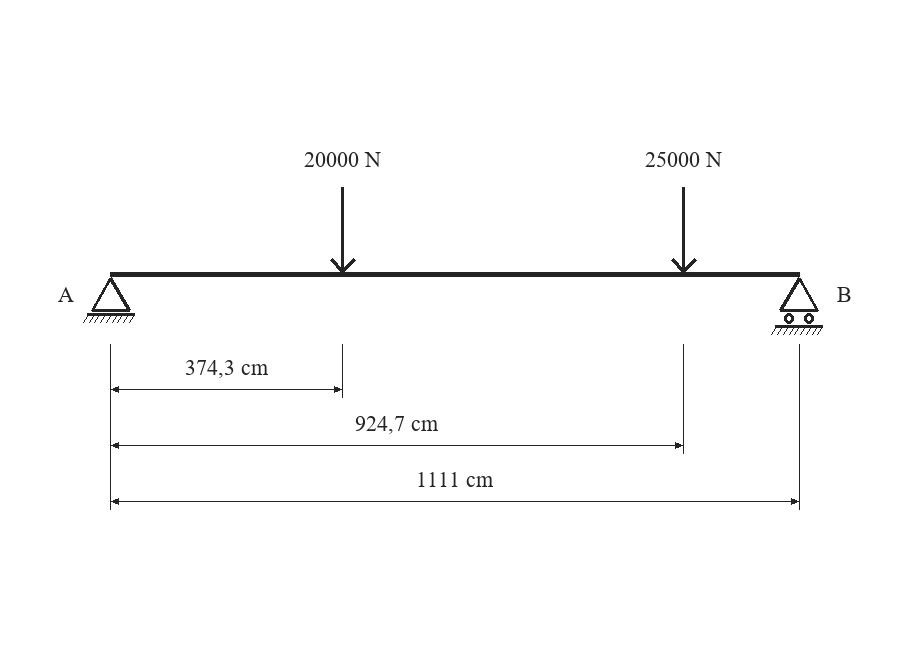pin_support: (83, 277, 135, 323)
point_load: (330, 187, 356, 273), (671, 187, 697, 273)
roller_support: (771, 277, 823, 335)
